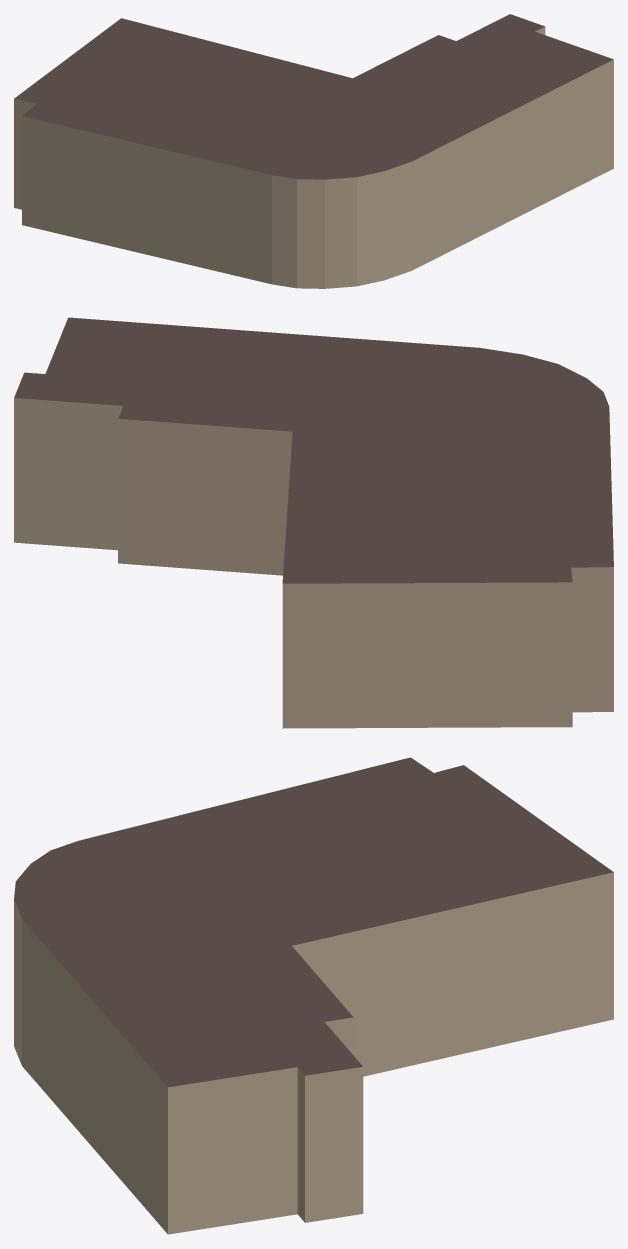
The picture shows the model from 3 angles, top to bottom: view 1: azimuth 30°, elevation 25°; view 2: azimuth 150°, elevation 25°; view 3: azimuth 270°, elevation 25°; orthographic projection. The views are drawn at different scales.
Visible parts, largest first — view 1: HP-w1435252852; view 2: HP-w1435252852; view 3: HP-w1435252852.
Part boxes in pixels (bbox=[...]): HP-w1435252852: bbox=[14, 14, 613, 288]; HP-w1435252852: bbox=[14, 317, 613, 728]; HP-w1435252852: bbox=[14, 757, 613, 1234].
Bounding box in the file's own units: 43.28 × 9 × 33.25.
